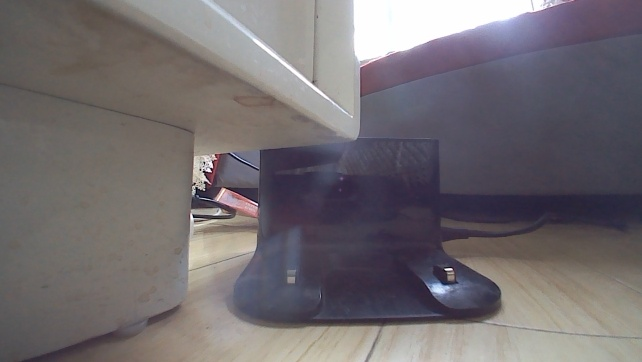charger: (231, 137, 502, 325)
sofa1: (192, 0, 641, 210)
wire: (440, 210, 631, 244)
